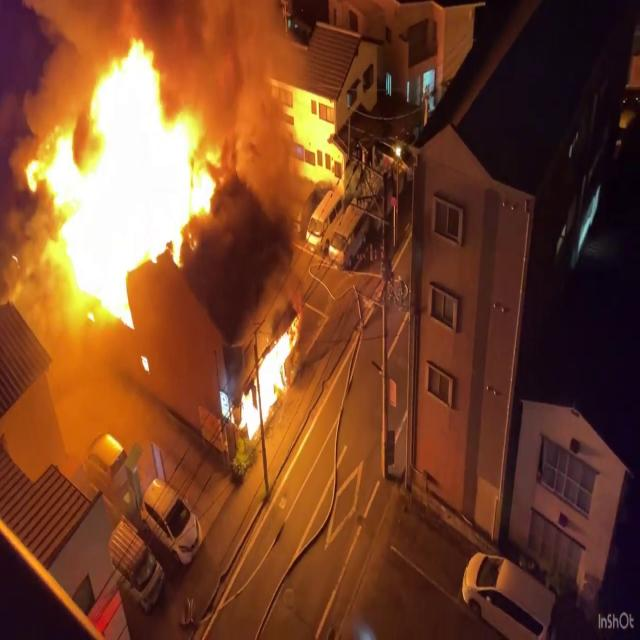Fire: (18, 27, 228, 330), (233, 314, 303, 445)
